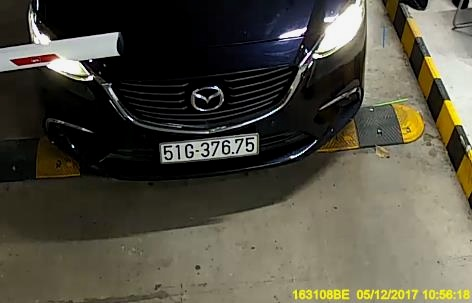plate: (156, 135, 262, 159)
